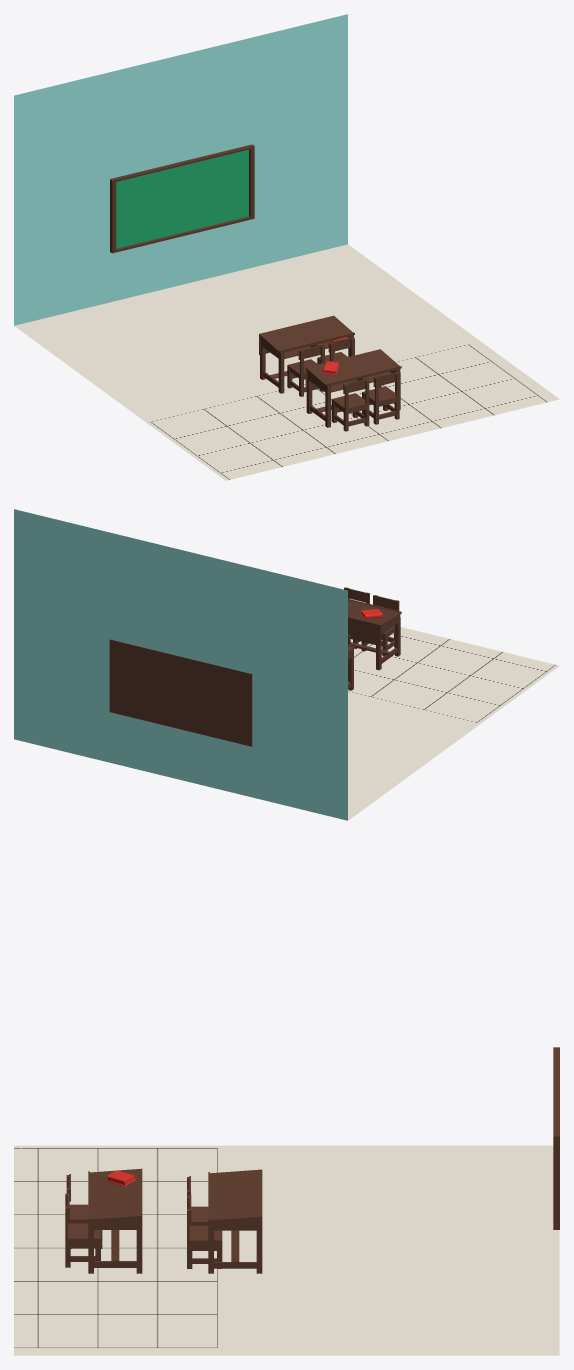
File: Environment_Class_Model_05.fbx
3 renders of one model, top to bottom at view 1: azimuth 30°, elevation 25°; view 2: azimuth 150°, elevation 25°; view 3: azimuth 270°, elevation 25°, orthographic. The views are drawn at different scales.
Visible parts, largest first — view 1: Kelas, Cube, Meja.011, Meja.008, Chair.018, Chair.017, Chair.024; view 2: Kelas, Cube, Meja.008, Chair.018; view 3: Kelas, Meja.011, Meja.008, Cube, Chair.017, Chair.023.
Part boxes in pixels (box(x1,y1,x2,y2)): Kelas: box(14, 14, 559, 480); Cube: box(110, 144, 254, 253); Meja.011: box(259, 315, 354, 393); Meja.008: box(305, 349, 401, 427); Chair.018: box(331, 378, 369, 431); Chair.017: box(362, 371, 399, 424); Chair.024: box(287, 344, 324, 396); Kelas: box(14, 509, 559, 820); Cube: box(109, 639, 252, 746); Meja.008: box(348, 598, 401, 670); Chair.018: box(361, 595, 399, 656); Kelas: box(14, 1145, 559, 1355); Meja.011: box(208, 1169, 262, 1273); Meja.008: box(88, 1168, 142, 1273); Cube: box(553, 1047, 559, 1229); Chair.017: box(65, 1192, 100, 1267); Chair.023: box(187, 1194, 222, 1268).
Size of the model in its own units: 560 by 369 by 615.
